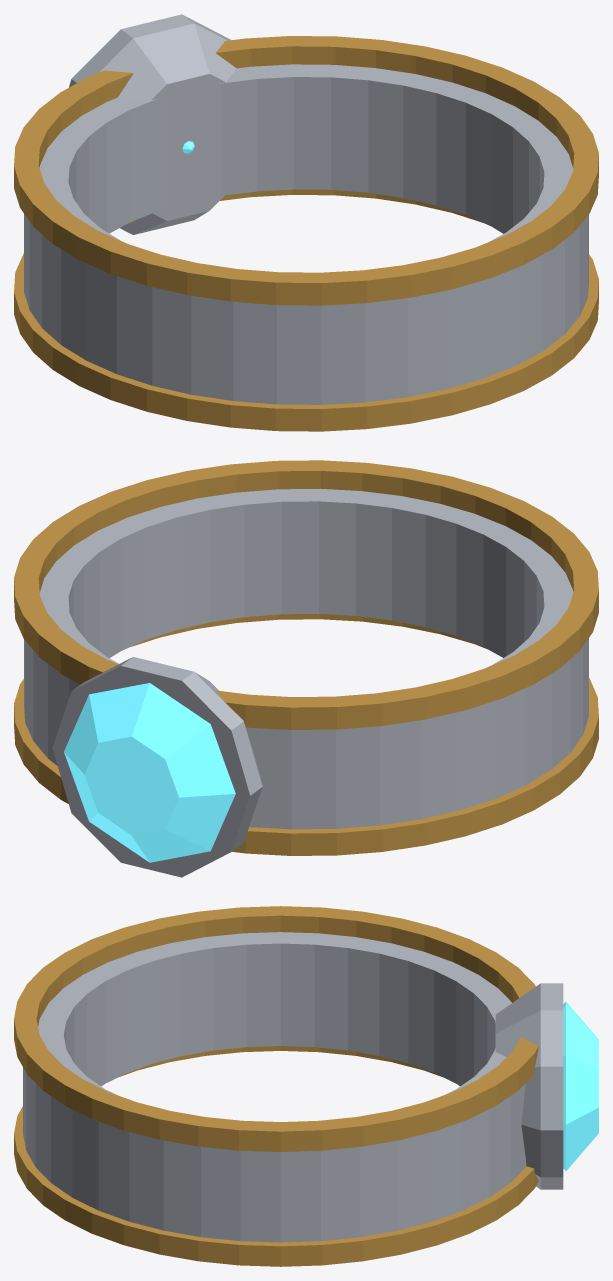
File: ring_ward.glb
3 views of the same model, one above another, from view 1: azimuth 30°, elevation 25°; view 2: azimuth 150°, elevation 25°; view 3: azimuth 270°, elevation 25° (orthographic). The views are drawn at different scales.
Visible parts, largest first — view 1: Ring_Ward_Steel, Ring_Ward_Brass; view 2: Ring_Ward_Steel, Ring_Ward_Brass, Ring_Ward_Gem_aetheric; view 3: Ring_Ward_Steel, Ring_Ward_Brass, Ring_Ward_Gem_aetheric.
Part boxes in pixels (<box>): Ring_Ward_Steel: <box>24,14,588,404</box>; Ring_Ward_Brass: <box>14,36,598,431</box>; Ring_Ward_Steel: <box>24,488,588,877</box>; Ring_Ward_Brass: <box>14,460,598,855</box>; Ring_Ward_Gem_aetheric: <box>64,683,235,862</box>; Ring_Ward_Steel: <box>23,932,563,1242</box>; Ring_Ward_Brass: <box>14,906,538,1266</box>; Ring_Ward_Gem_aetheric: <box>563,1002,598,1170</box>.
Size of the model in its own units: 0.0236 by 0.00875 by 0.0259.
